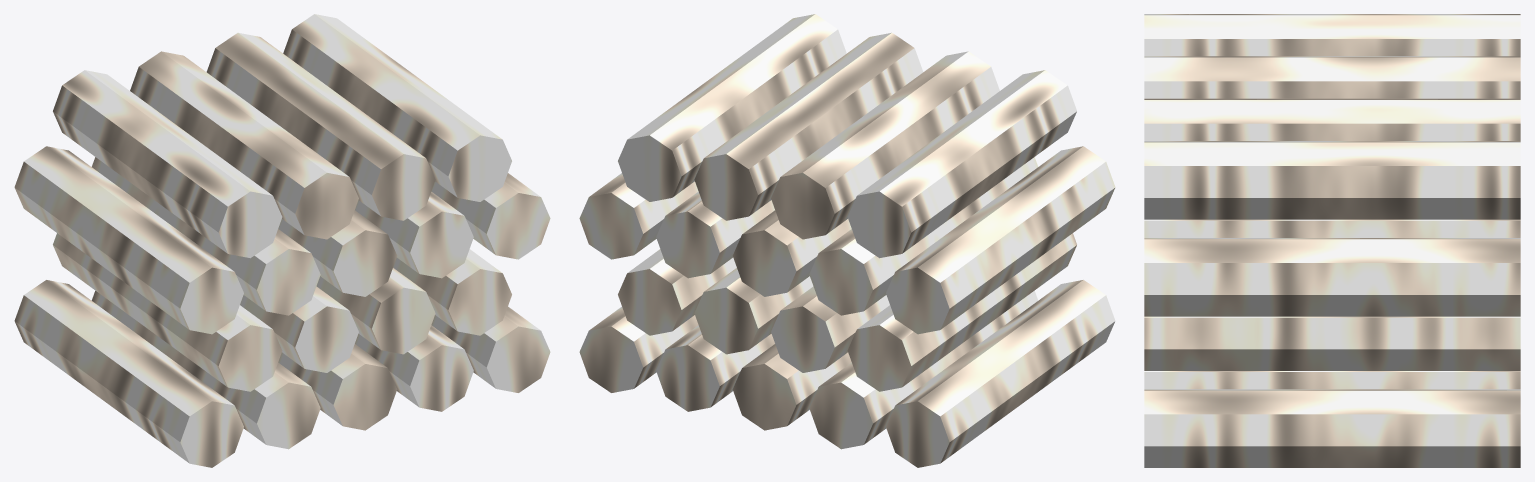
File: legna.obj
3 views of the same model, side by side, from view 1: azimuth 30°, elevation 25°; view 2: azimuth 150°, elevation 25°; view 3: azimuth 270°, elevation 25° (orthographic). The views are drawn at different scales.
Visible parts, largest first — view 1: corteccia_000; view 2: corteccia_000; view 3: corteccia_000.
Part boxes in pixels (x1,y1,x2,y2): corteccia_000: (14,14,550,467); corteccia_000: (579,14,1115,467); corteccia_000: (1144,14,1520,467).
Size of the model in its own units: 1.16 by 0.8 by 0.9.
Materials: 1 (1 with a texture image).
